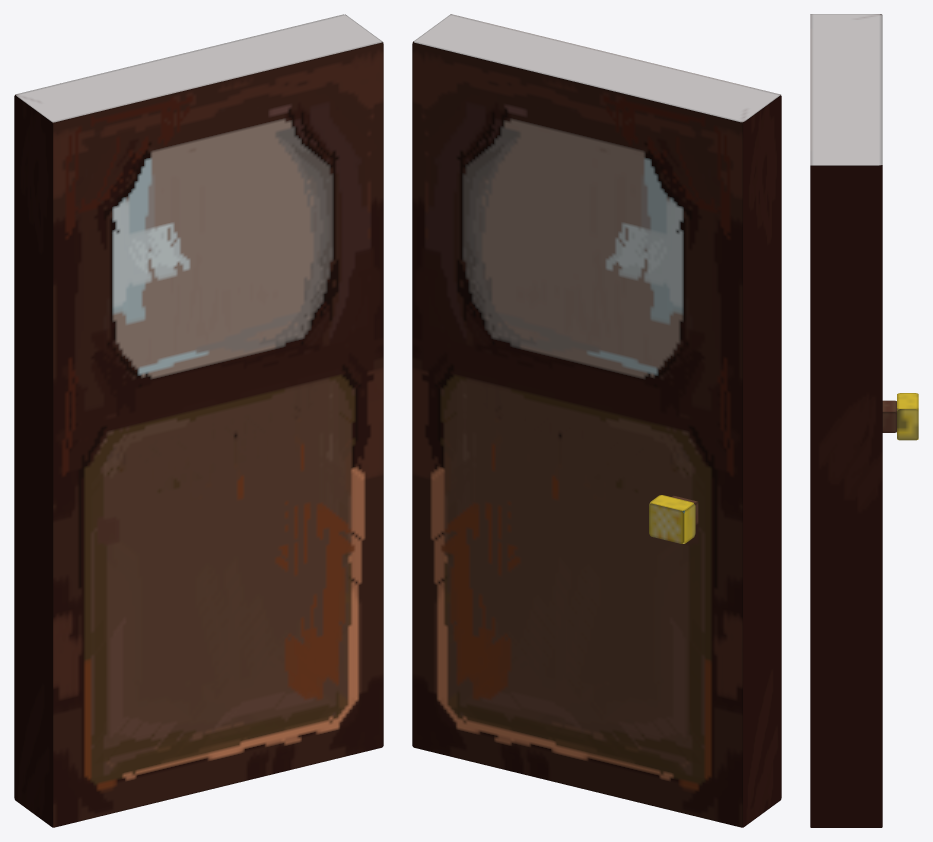
File: OpenDoor.obj
3 views of the same model, side by side, from view 1: azimuth 30°, elevation 25°; view 2: azimuth 150°, elevation 25°; view 3: azimuth 270°, elevation 25° (orthographic). The views are drawn at different scales.
Parts seen in each view (by area): view 1: Door; view 2: Door; view 3: Door.
Part boxes in pixels (x1,y1,x2,y2): Door: (14, 14, 383, 827); Door: (412, 14, 781, 827); Door: (810, 14, 918, 827).
Size of the model in its own units: 3.25 by 6.62 by 0.9844.
1 material, 1 textured.
